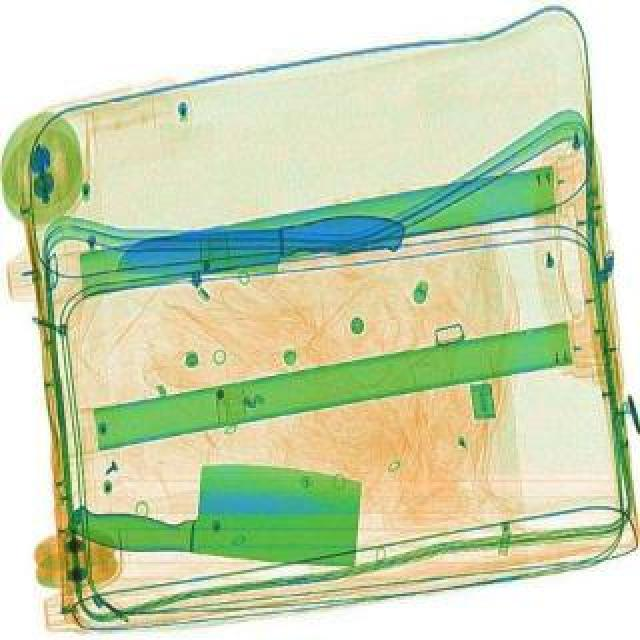knife: (62, 458, 368, 572), (110, 198, 410, 298)
